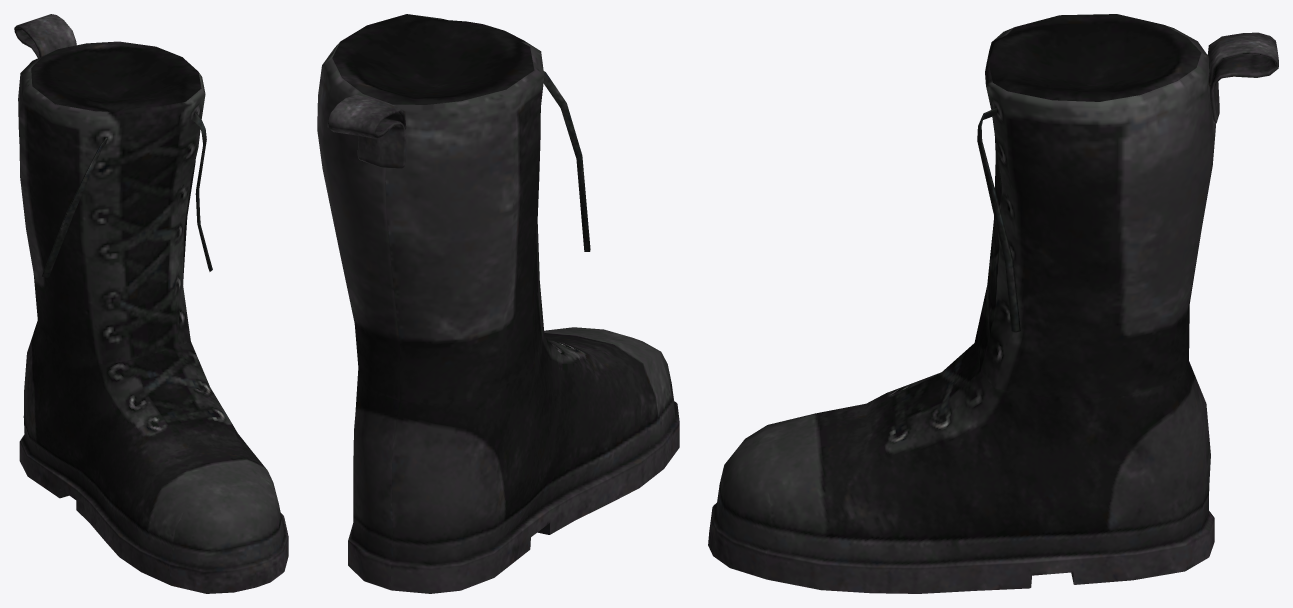
Rendered from boots_left.dae.
3 views of the same model, side by side, from view 1: azimuth 30°, elevation 25°; view 2: azimuth 150°, elevation 25°; view 3: azimuth 270°, elevation 25° (orthographic). The views are drawn at different scales.
Visible parts, largest first — view 1: Boots; view 2: Boots; view 3: Boots.
Boxes of the visible parts, box(x1,y1,x2,y2) form: Boots: box(14, 14, 288, 593); Boots: box(317, 14, 679, 593); Boots: box(708, 14, 1278, 593).
Bounding box in the file's own units: 0.1864 × 0.4105 × 0.4176.
